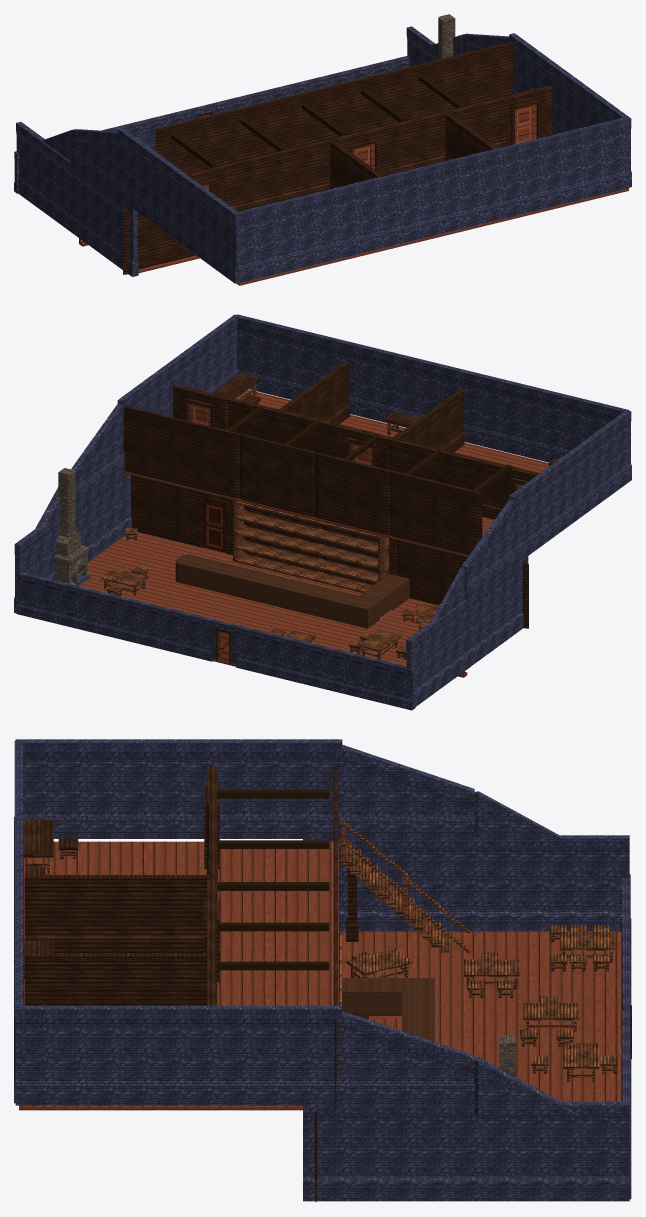
The model's file is Pub.glb.
3 renders of one model, top to bottom at view 1: azimuth 30°, elevation 25°; view 2: azimuth 150°, elevation 25°; view 3: azimuth 270°, elevation 25°, orthographic. The views are drawn at different scales.
Visible parts, largest first — view 1: wall (×16), doorway_doorSolid (×3), wall_diagonal (×2), porch_floorCenter, chimney_middle, wall_slope; view 2: wall (×20), porch_floorCenter (×2), block (×14), doorway_doorSolid (×4), wall_diagonal (×2), furniture_table (×3), wall_slope (×2), doorway_doorWood, wall_window, chimney_middle, chimney_baseClosed; view 3: wall (×11), porch_floorCenter (×2), wall_diagonal (×2), block (×7), furniture_table (×6), wall_slope (×2), stairs_woodRailing (×2), doorway_doorSolid (×2), column, chimney_middle.
Boxes of the visible parts, left/top/right/bottom form: wall (×16): left=14, top=26, right=631, bottom=283; doorway_doorSolid (×3): left=186, top=86, right=552, bottom=201; wall_diagonal (×2): left=71, top=34, right=511, bottom=199; porch_floorCenter: left=237, top=188, right=628, bottom=285; chimney_middle: left=438, top=14, right=455, bottom=50; wall_slope: left=42, top=129, right=75, bottom=161; wall (×20): left=14, top=314, right=631, bottom=710; porch_floorCenter (×2): left=80, top=389, right=549, bottom=666; block (×14): left=183, top=501, right=379, bottom=628; doorway_doorSolid (×4): left=173, top=384, right=539, bottom=554; wall_diagonal (×2): left=71, top=402, right=516, bottom=600; furniture_table (×3): left=100, top=373, right=401, bottom=659; wall_slope (×2): left=35, top=487, right=464, bottom=622; doorway_doorWood: left=210, top=619, right=239, bottom=664; wall_window: left=53, top=545, right=91, bottom=586; chimney_middle: left=58, top=468, right=75, bottom=504; chimney_baseClosed: left=55, top=531, right=84, bottom=558; wall (×11): left=14, top=739, right=631, bottom=1201; porch_floorCenter (×2): left=19, top=841, right=621, bottom=1110; wall_diagonal (×2): left=336, top=744, right=474, bottom=1105; block (×7): left=217, top=790, right=401, bottom=1018; furniture_table (×6): left=24, top=820, right=615, bottom=1081; wall_slope (×2): left=474, top=791, right=577, bottom=1115; stairs_woodRailing (×2): left=339, top=818, right=470, bottom=952; doorway_doorSolid (×2): left=204, top=766, right=219, bottom=989; column: left=346, top=868, right=358, bottom=941; chimney_middle: left=499, top=1035, right=515, bottom=1078.
Bounding box in the file's own units: 19.73 × 7.1 × 18.72.
Materials: 189 (172 with a texture image).
